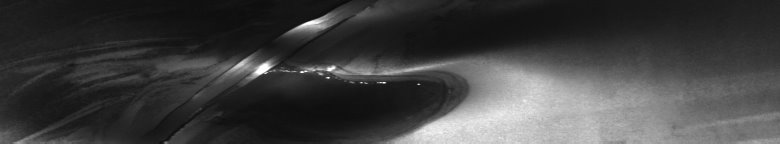ke: (132, 4, 484, 136)
